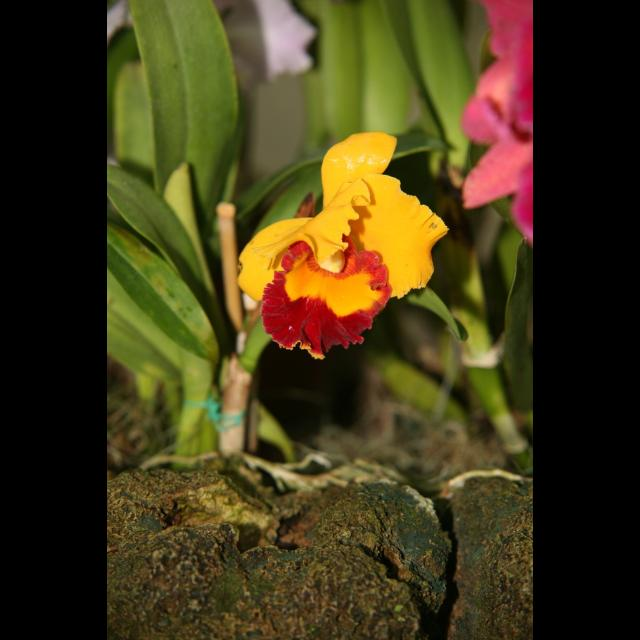Flower: (240, 134, 442, 354), (459, 0, 533, 242)
